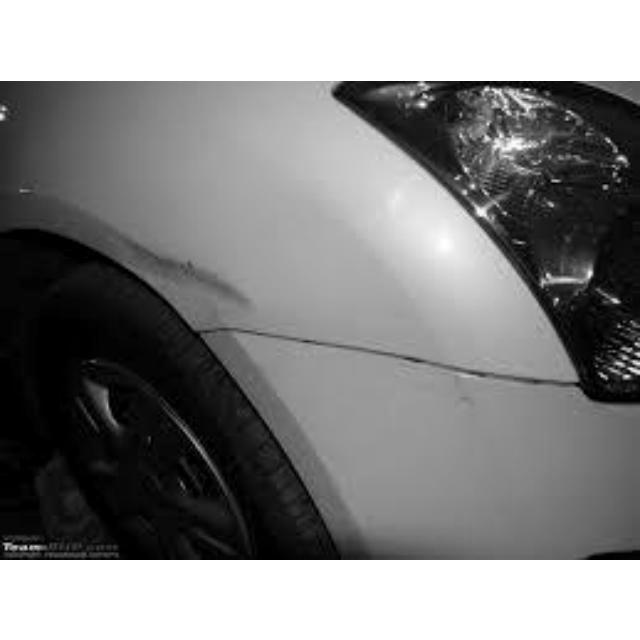fender-dent: (2, 83, 365, 406)
